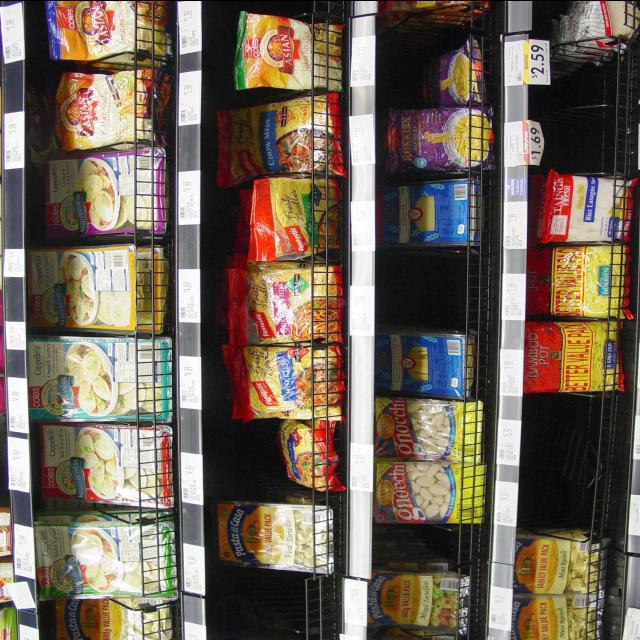empty_space: (544, 396, 624, 522), (564, 63, 632, 163), (418, 247, 494, 325), (241, 574, 323, 631), (398, 20, 440, 87), (404, 532, 484, 560)
